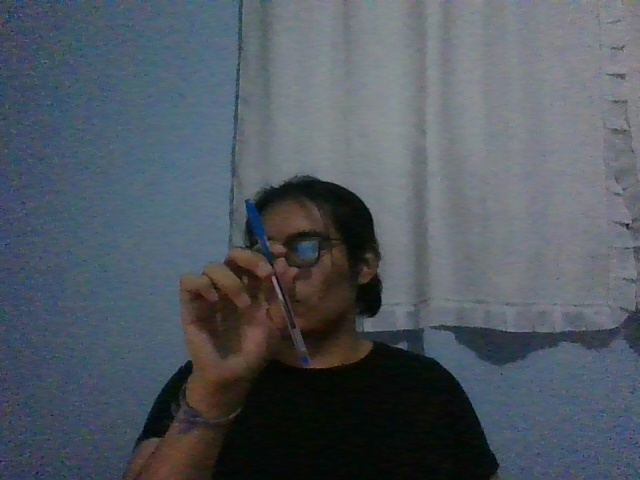pluma: (244, 198, 309, 366)
